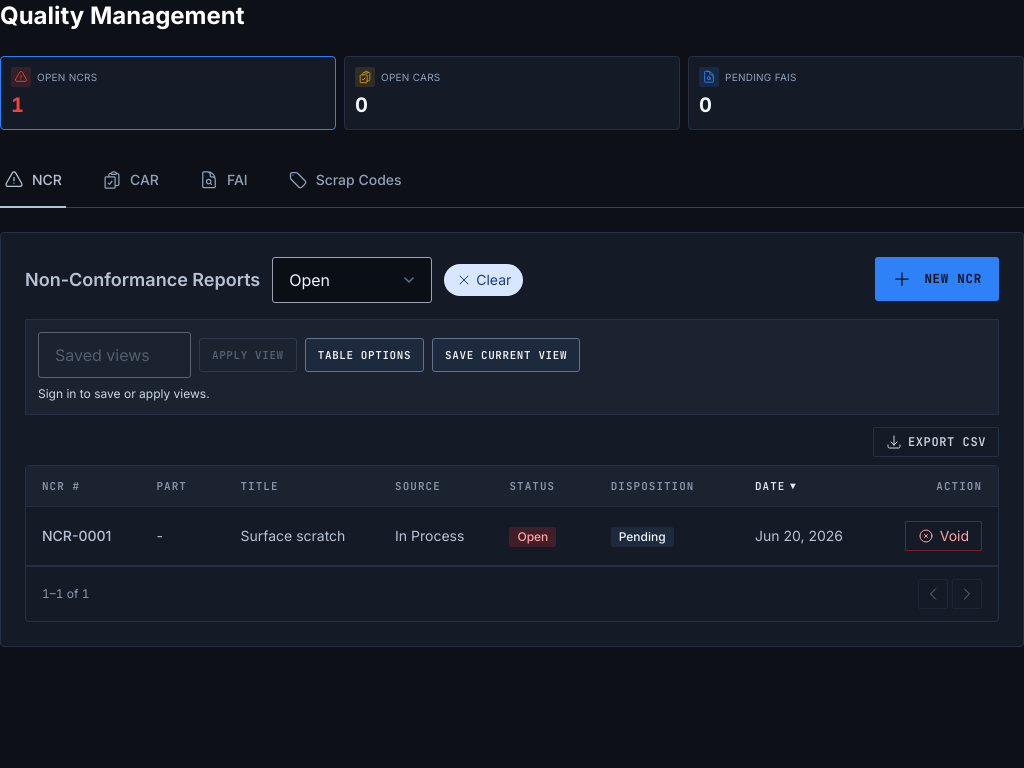
it: Quality — NCR void › surfaces the verbatim server detail on a refusal (e.g. blocking a work order)
Click the button with aria-label "Void NCR NCR-0001": (943, 536) top-left (905, 521), bottom-right (982, 551)
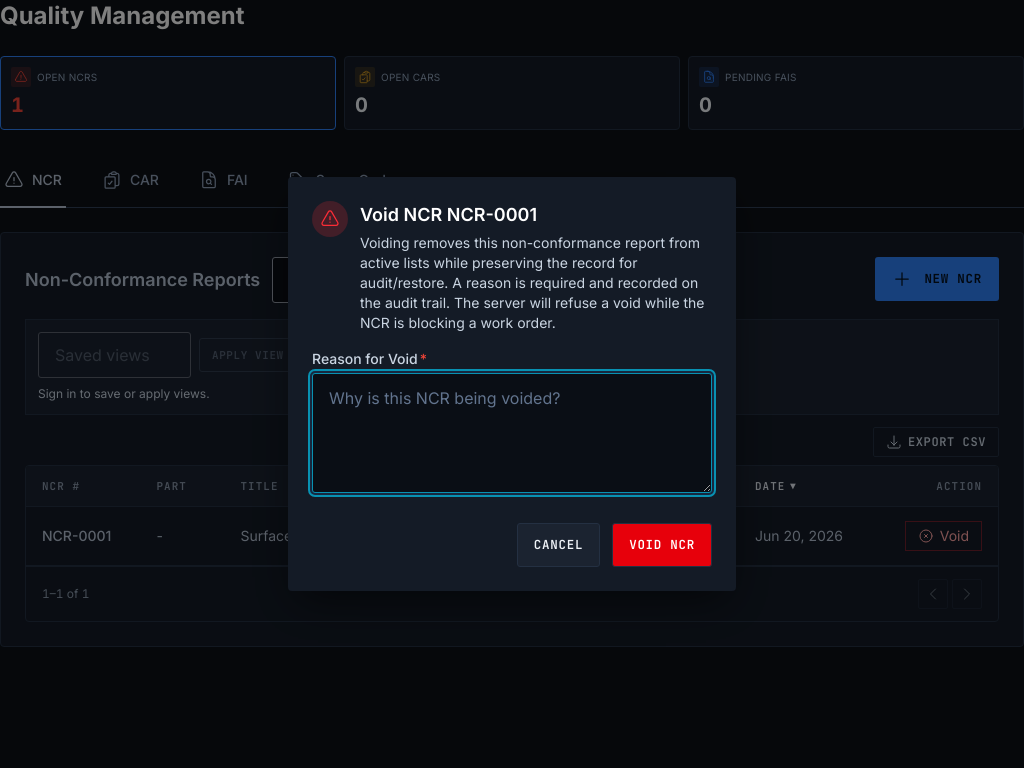
Check: the heading "Void NCR NCR-0001" is shown, box top-left (360, 204), bottom-right (537, 225)
In the text box labelled "Reason for Void*": (512, 433) top-left (312, 373), bottom-right (712, 493), type "try"
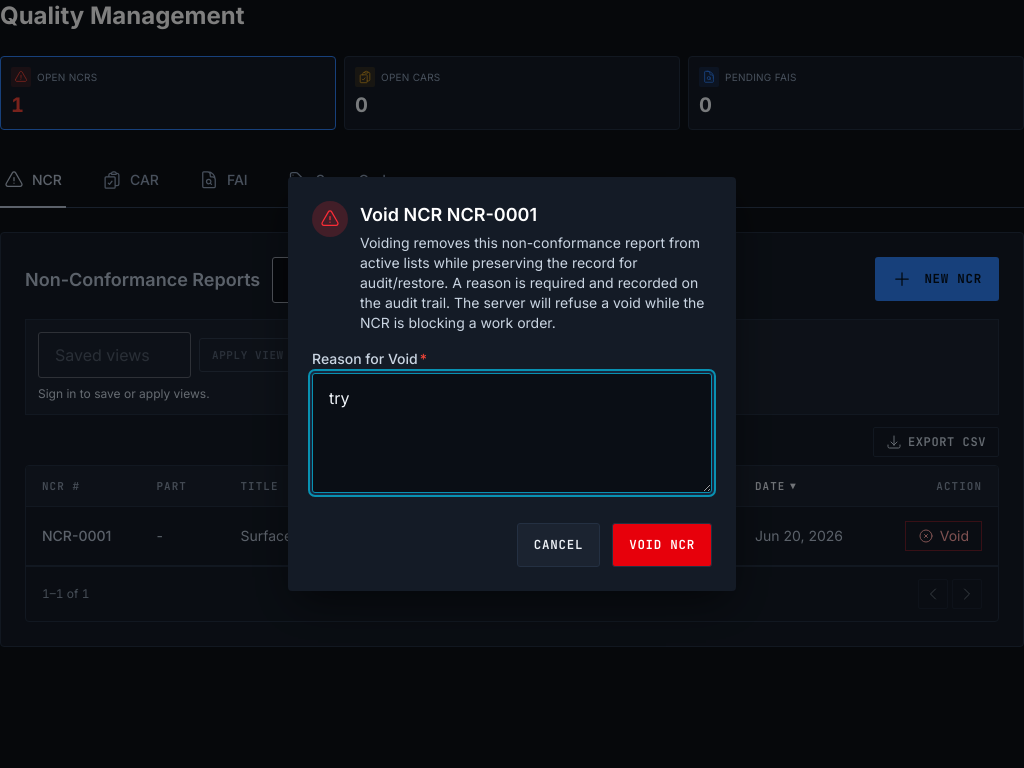
Click the button "Void NCR": (662, 545) top-left (612, 523), bottom-right (712, 567)
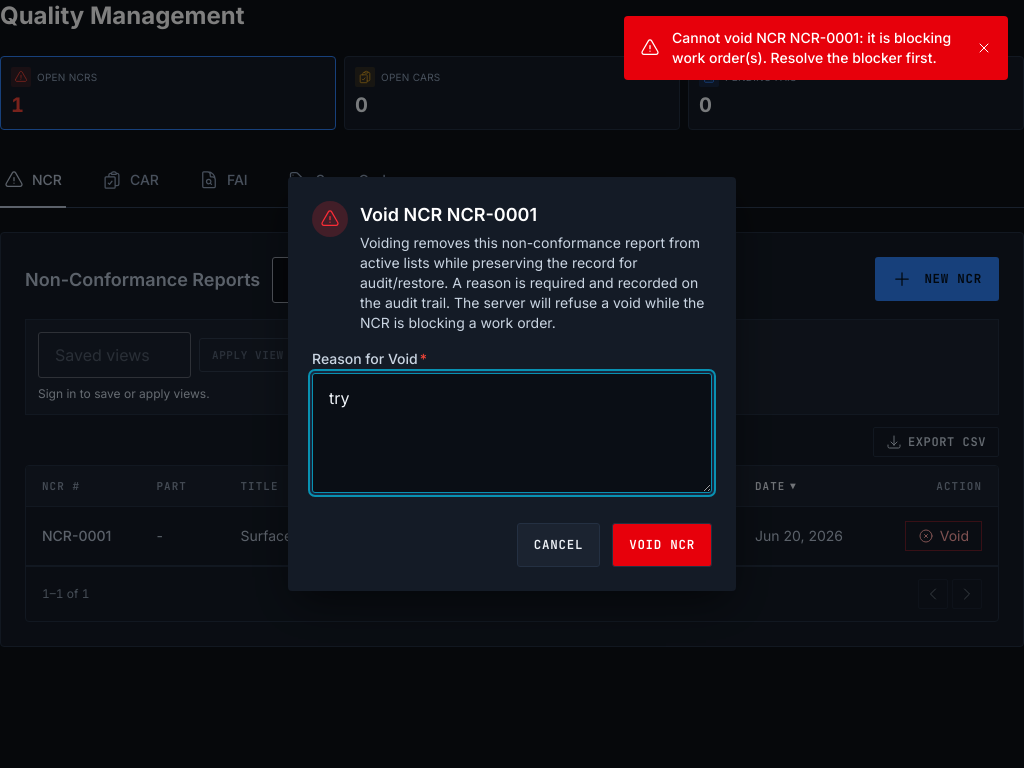
Check: the text "Cannot void NCR NCR-0001: it is blocking work order(s). Resolve the blocker first." is shown, box top-left (672, 29), bottom-right (951, 66)
